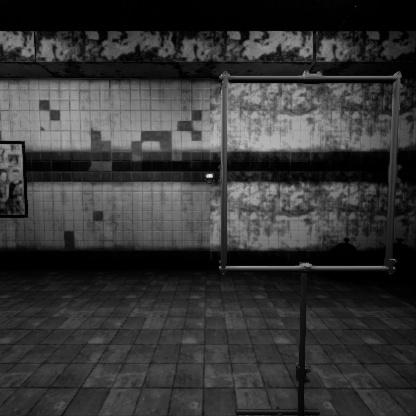gate: (221, 142, 416, 340)
